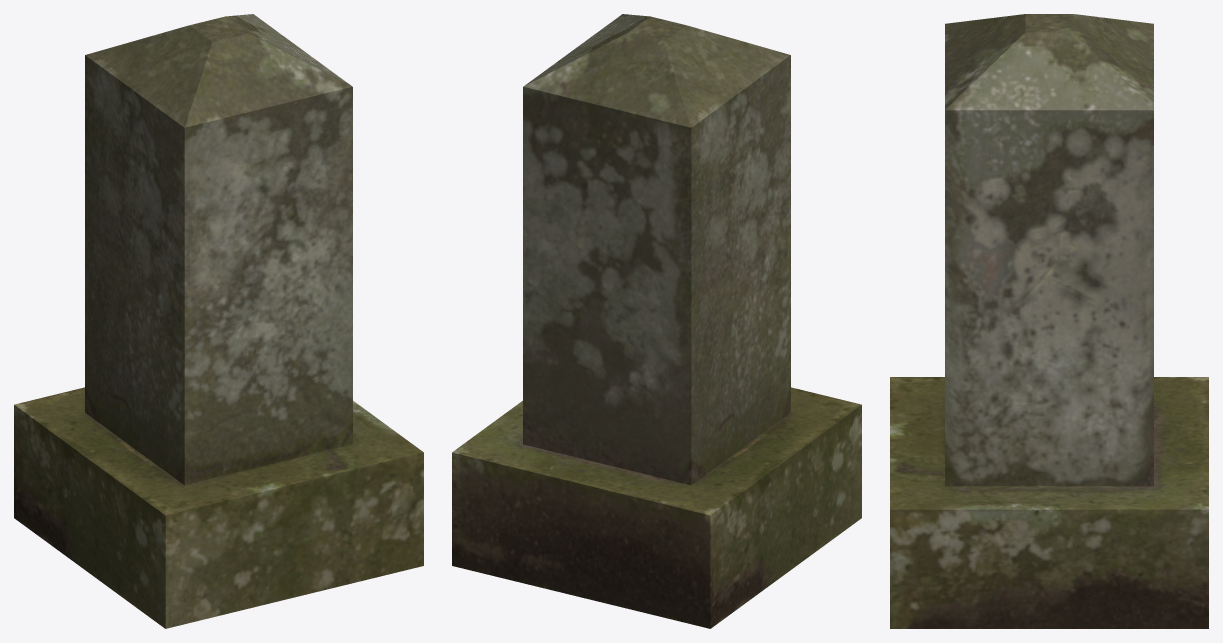
Rendered from OU_AR_Forest_Stone_01_D.fbx.
3 renders of one model, left to right at view 1: azimuth 30°, elevation 25°; view 2: azimuth 150°, elevation 25°; view 3: azimuth 270°, elevation 25°, orthographic. The views are drawn at different scales.
Visible parts, largest first — view 1: OU_AR_Stone_01_D; view 2: OU_AR_Stone_01_D; view 3: OU_AR_Stone_01_D.
Part boxes in pixels (x1,y1,x2,y2): OU_AR_Stone_01_D: [14, 14, 423, 628]; OU_AR_Stone_01_D: [452, 14, 861, 628]; OU_AR_Stone_01_D: [890, 14, 1208, 628].
Size of the model in its own units: 150 by 284 by 152.
Materials: 1 (1 with a texture image).
